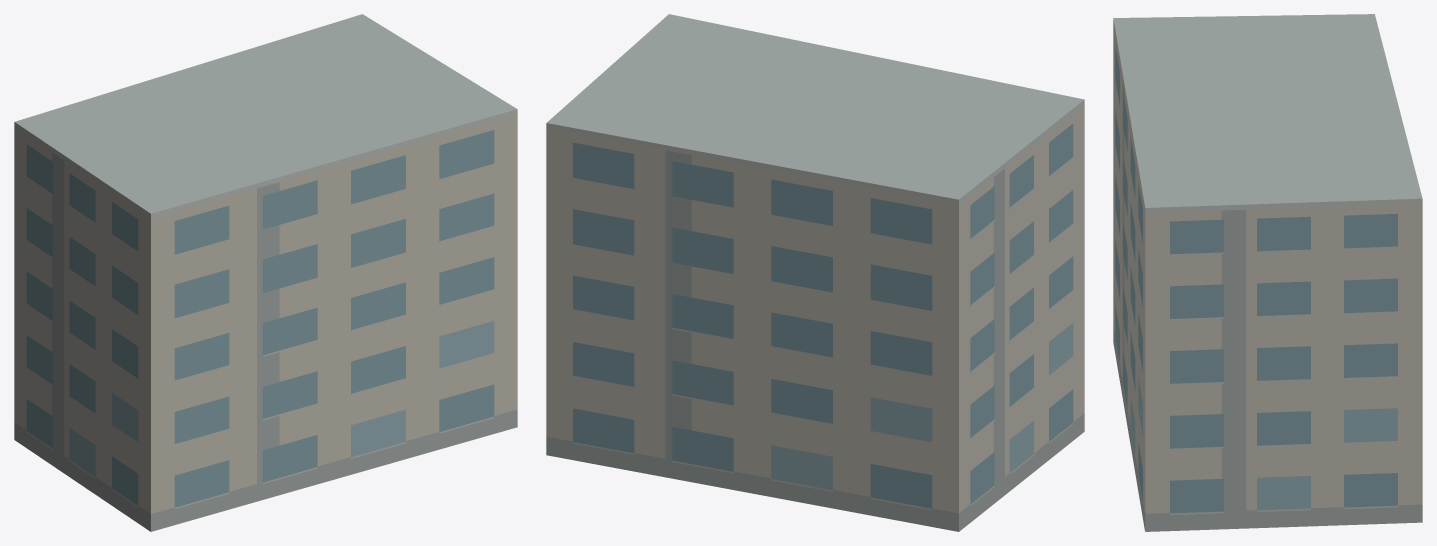
Rendered from residential-a6b169ca-d05e-4a51-9f80-9a09e7f9c5fd.glb.
3 views of the same model, side by side, from view 1: azimuth 30°, elevation 25°; view 2: azimuth 150°, elevation 25°; view 3: azimuth 270°, elevation 25° (orthographic). The views are drawn at different scales.
Visible parts, largest first — view 1: residential-a6b169ca-d05e-4a51-9f80-9a09e7f9c5fd.tmp; view 2: residential-a6b169ca-d05e-4a51-9f80-9a09e7f9c5fd.tmp; view 3: residential-a6b169ca-d05e-4a51-9f80-9a09e7f9c5fd.tmp.
Part boxes in pixels (x1,y1,x2,y2): residential-a6b169ca-d05e-4a51-9f80-9a09e7f9c5fd.tmp: (14, 14, 517, 531); residential-a6b169ca-d05e-4a51-9f80-9a09e7f9c5fd.tmp: (546, 14, 1084, 531); residential-a6b169ca-d05e-4a51-9f80-9a09e7f9c5fd.tmp: (1113, 14, 1422, 531).
Size of the model in its own units: 19.59 by 15.25 by 13.2.
